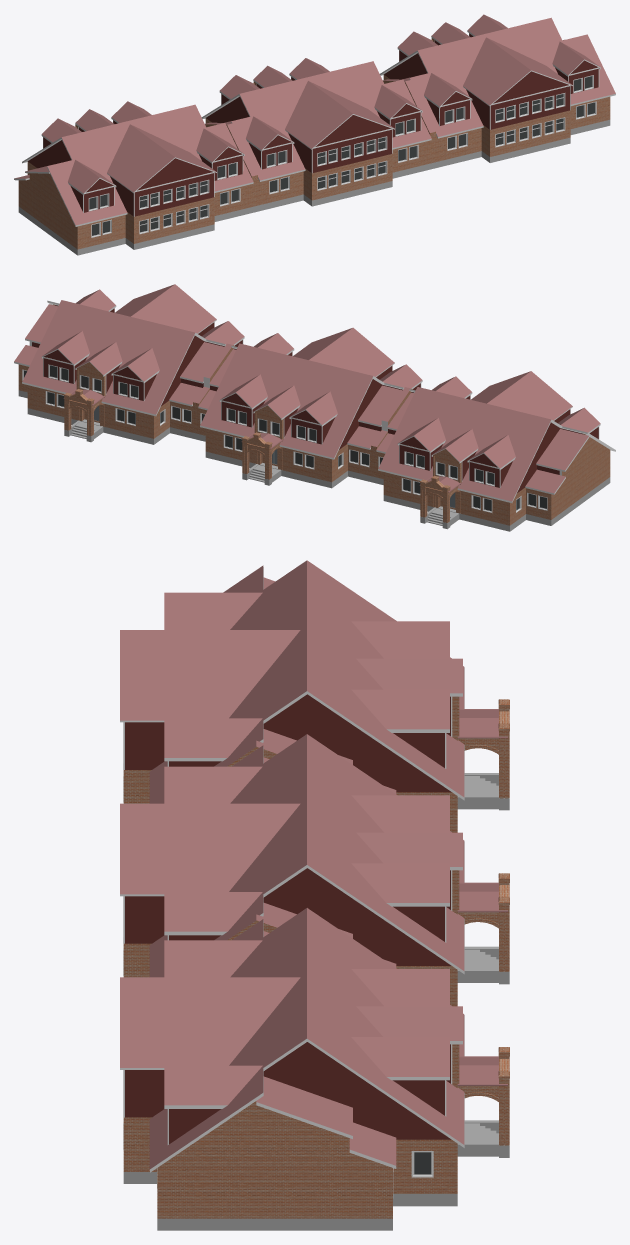
Rendered from townhouse.FBX.
3 renders of one model, top to bottom at view 1: azimuth 30°, elevation 25°; view 2: azimuth 150°, elevation 25°; view 3: azimuth 270°, elevation 25°, orthographic. The views are drawn at different scales.
Parts seen in each view (by area): view 1: Дом на Таежной, "1"; view 2: Дом на Таежной, "1"; view 3: Дом на Таежной, "1".
Boxes of the visible parts, x1=… form: Дом на Таежной, "1": x1=14, y1=14, x2=615, y2=255; Дом на Таежной, "1": x1=14, y1=284, x2=615, y2=531; Дом на Таежной, "1": x1=120, y1=560, x2=509, y2=1230.
Bounding box in the file's own units: 69.47 × 10.54 × 21.71.
